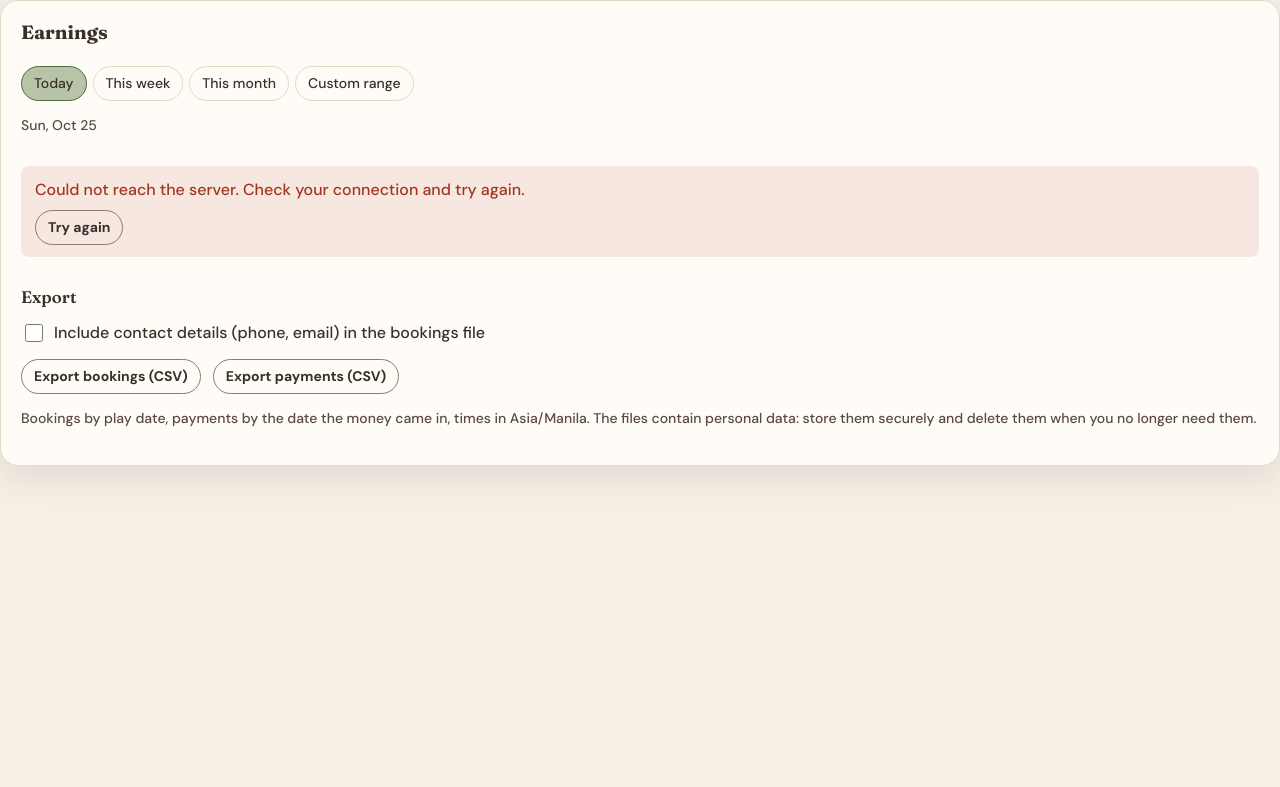
Test: EarningsSection › shows an error with a retry
Expected: the text "Could not reach the server" is shown, [35,179,525,200]
Click the button "Try again" at (79, 228), box [35,210,123,245]
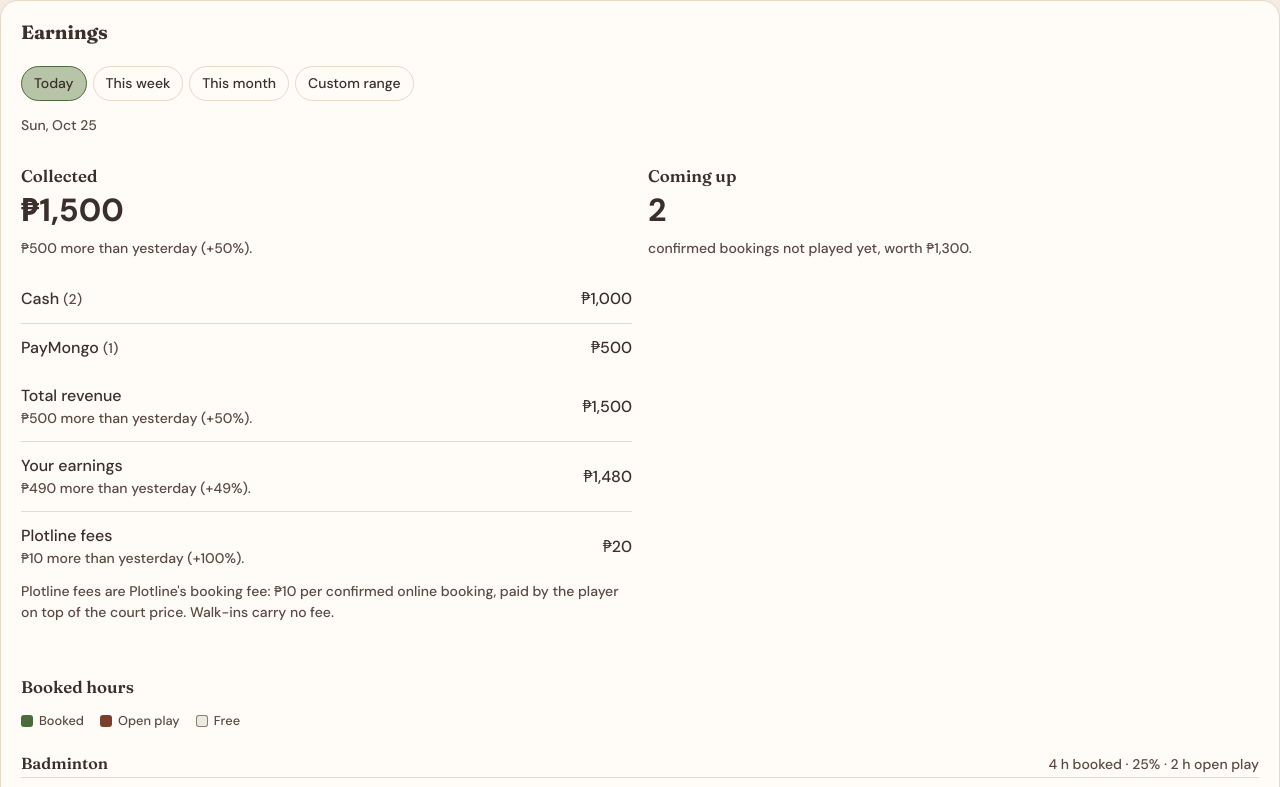
Expected: the 1st text "₱1,500" is shown, [21,189,124,231]
